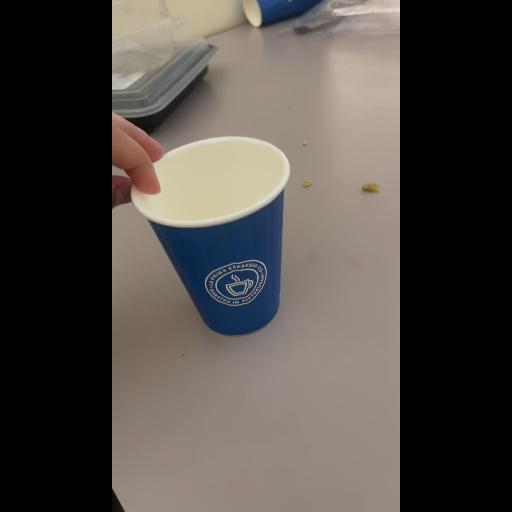lp_paper_cup: (117, 128, 309, 354)
